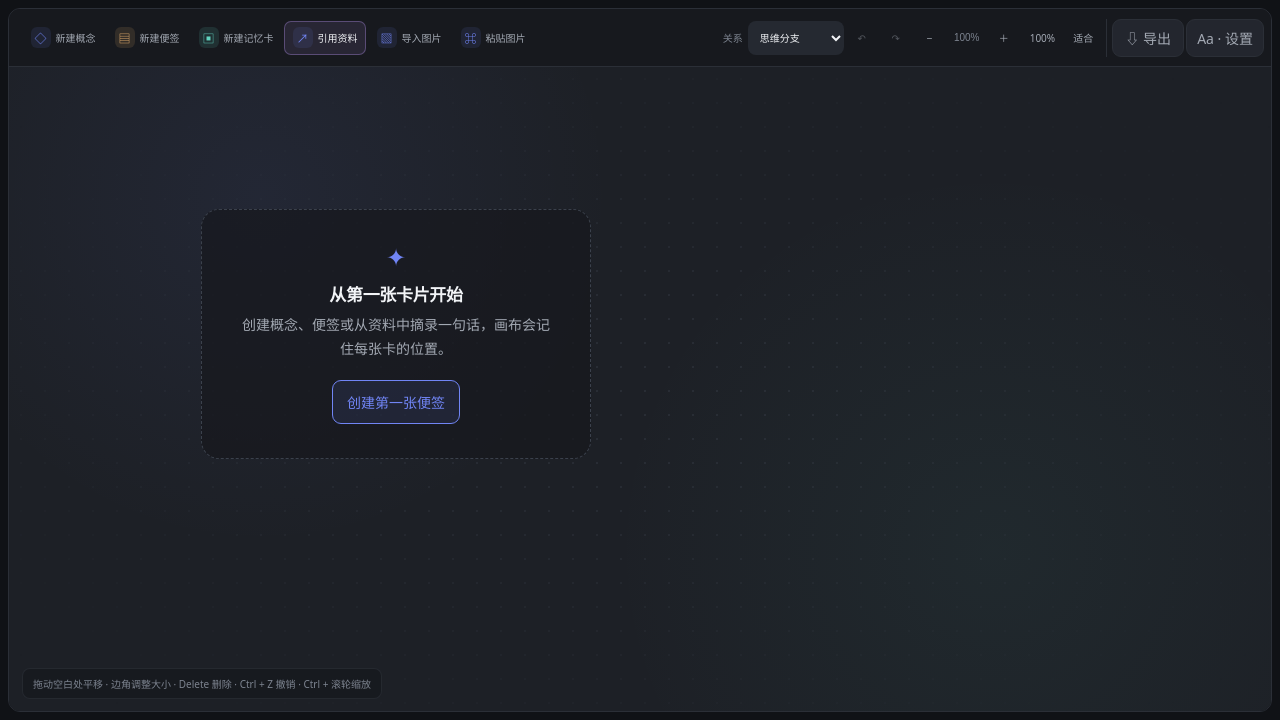
Test case: keeps the latest selected source when document responses arrive out of order
Click the button "↗ 引用资料" at (325,38), box x1=284 y1=20 x2=366 y2=54
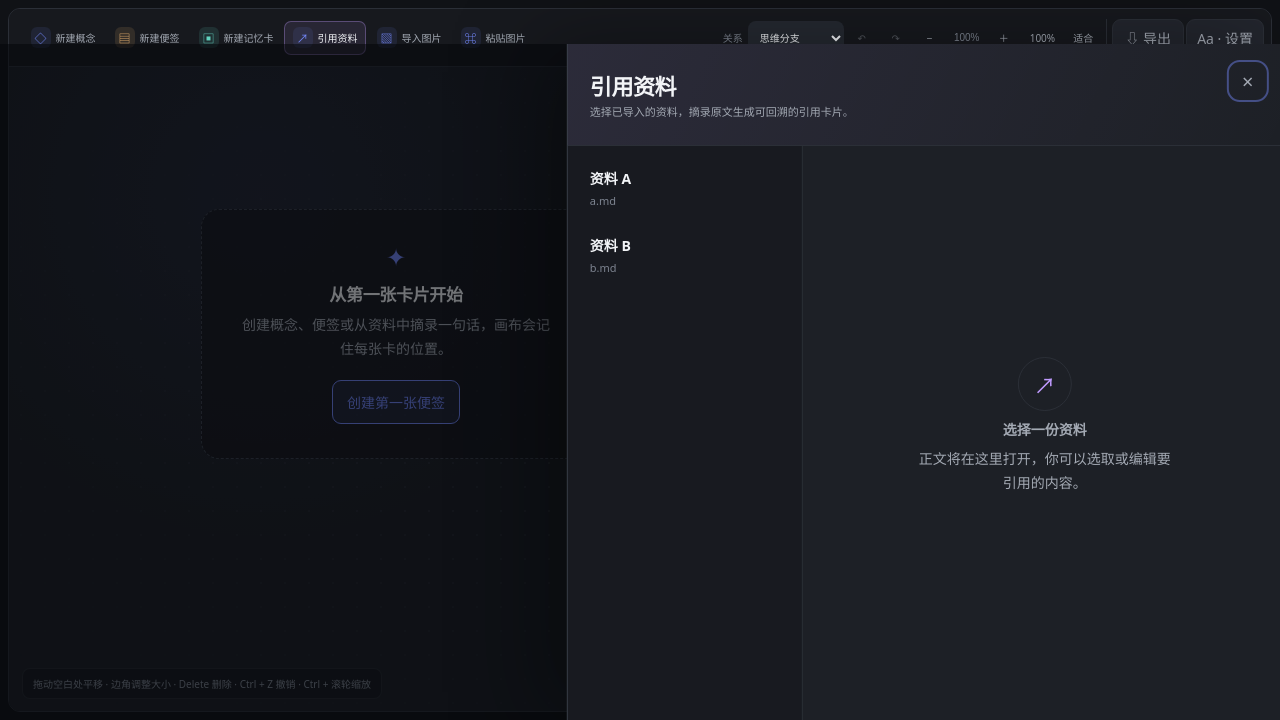
Click the button "资料 A a.md" at (680,188), box x1=574 y1=157 x2=786 y2=219
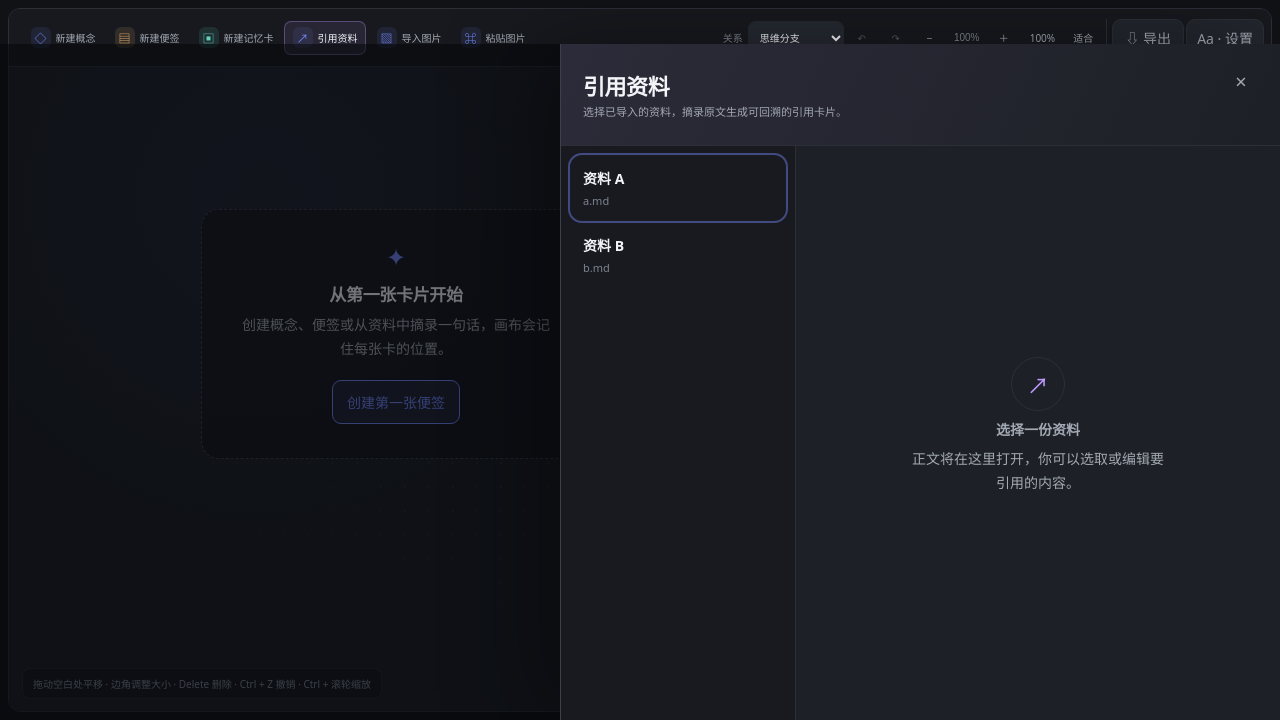
Click the button "资料 B b.md" at (678,255), box x1=572 y1=224 x2=784 y2=286
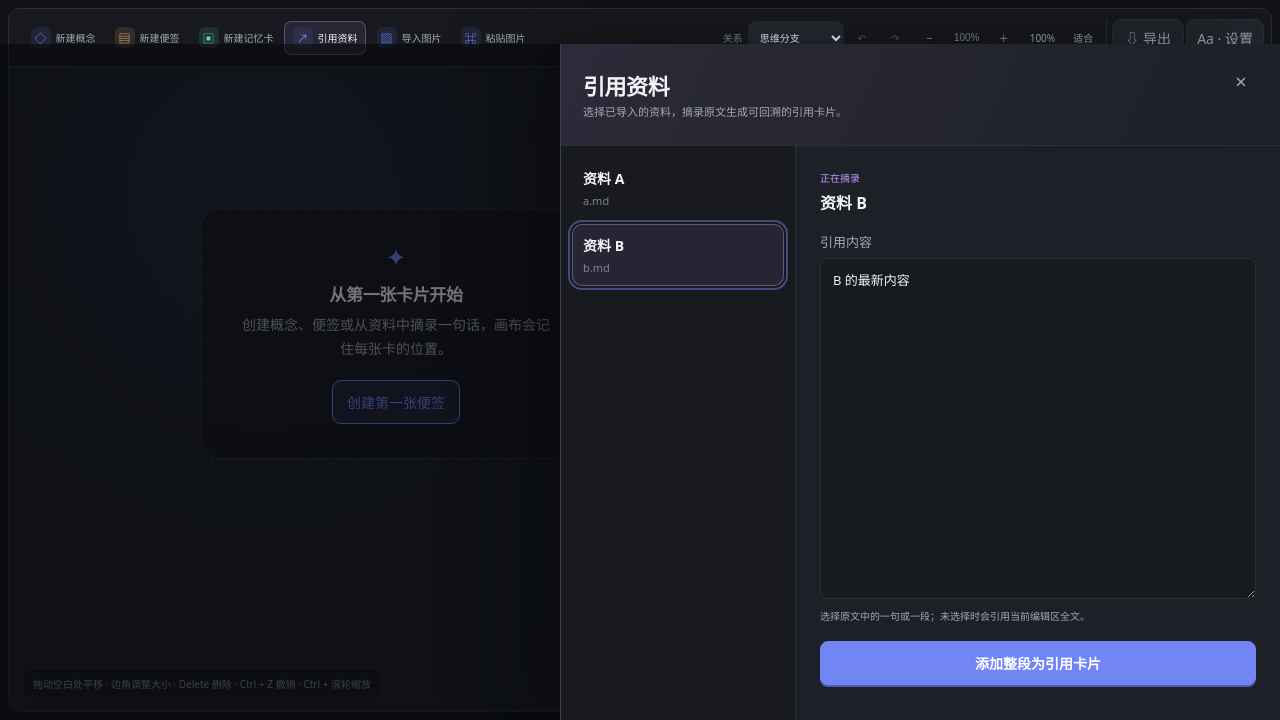
Expected: the text box labelled "引用内容" holds "B 的最新内容", x1=820 y1=258 x2=1256 y2=598
